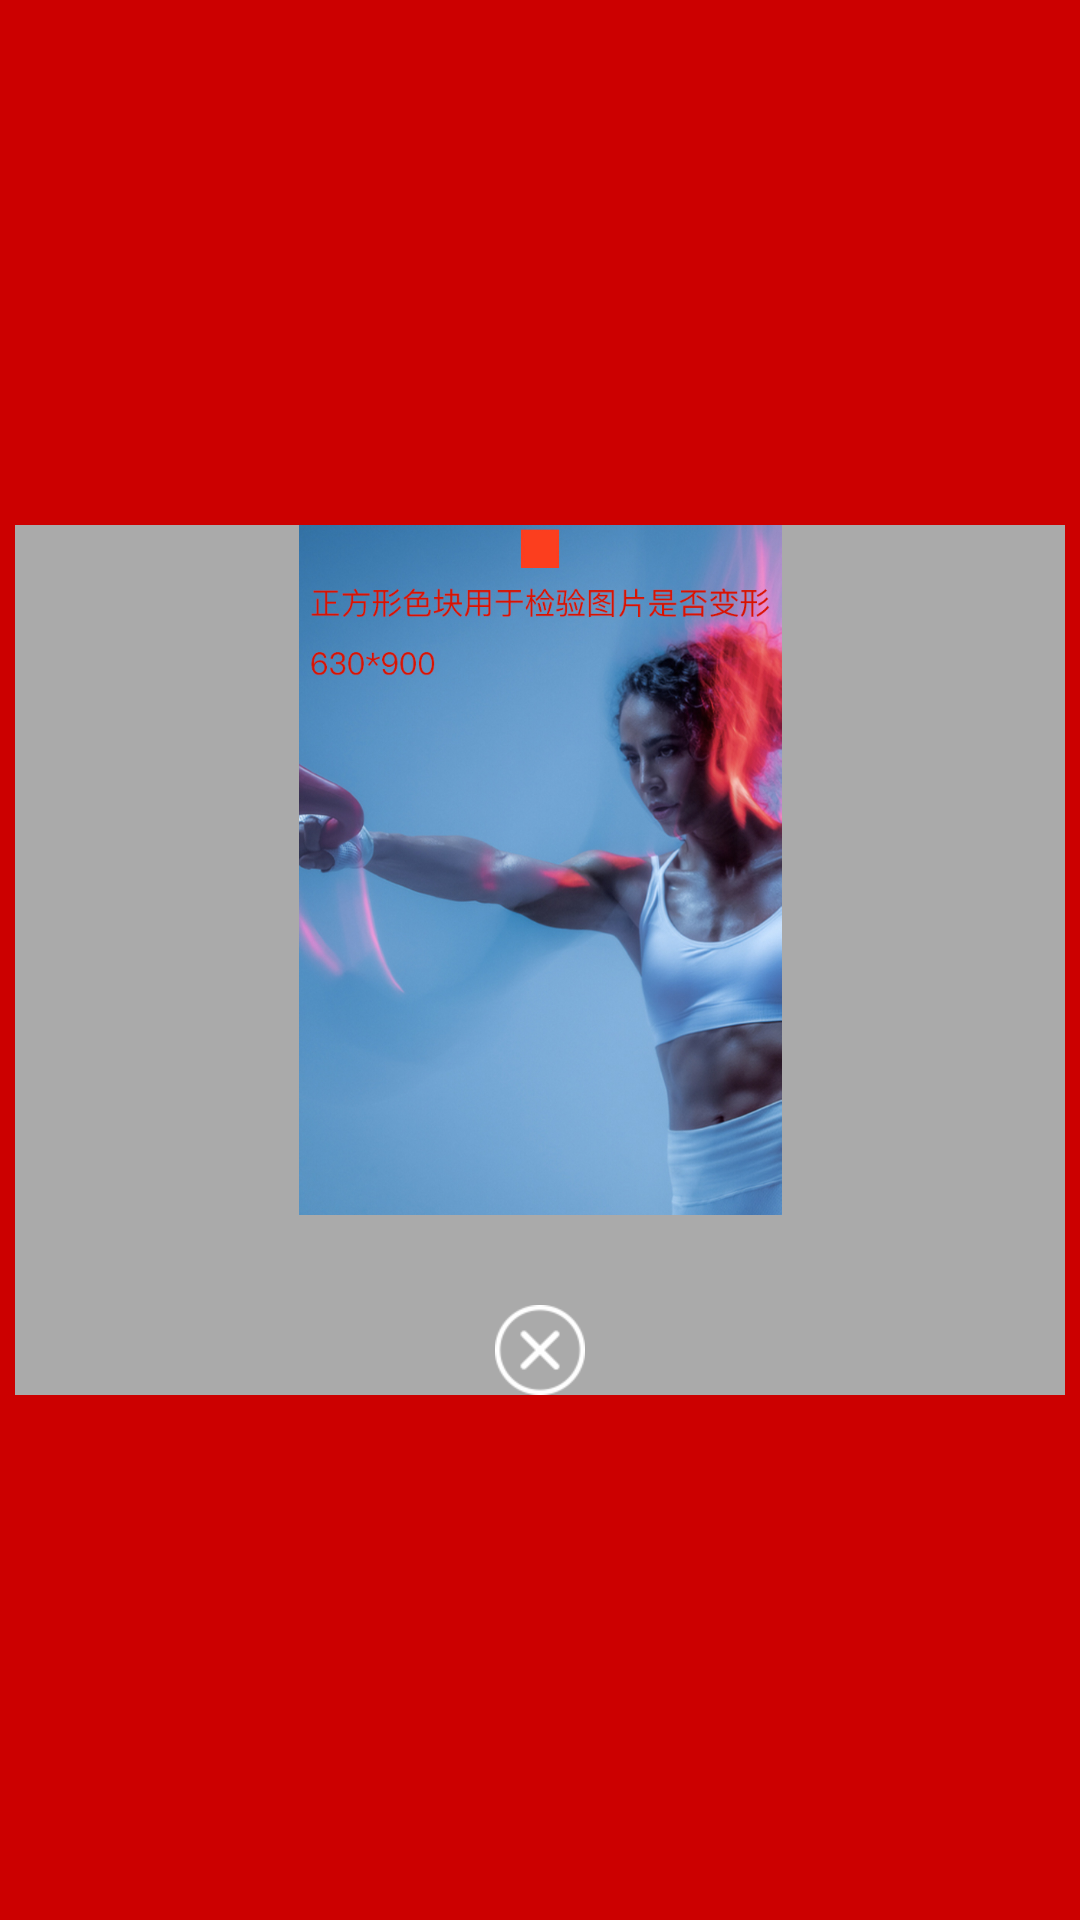

Where to tap for icons on this 1080px x 1920px app screen, as point (x, y):
coupon close: point (540, 1350)
